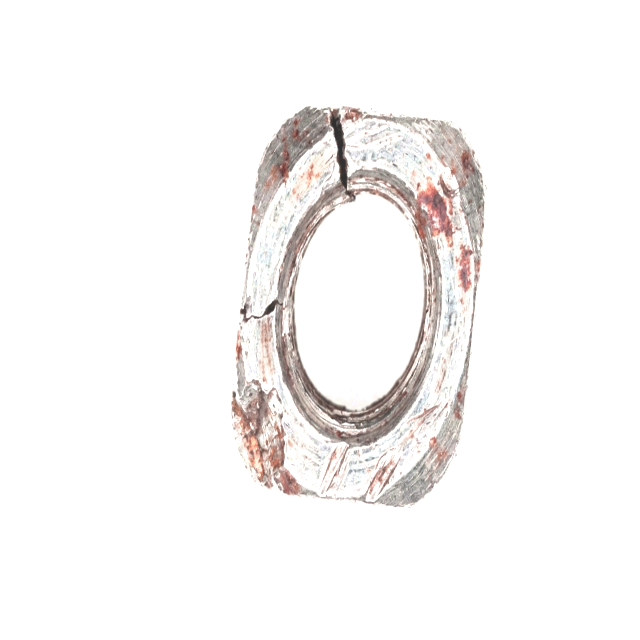defect: (218, 377, 297, 493), (316, 98, 366, 212), (224, 288, 301, 325), (312, 435, 353, 499), (360, 444, 401, 508), (434, 167, 466, 199)
